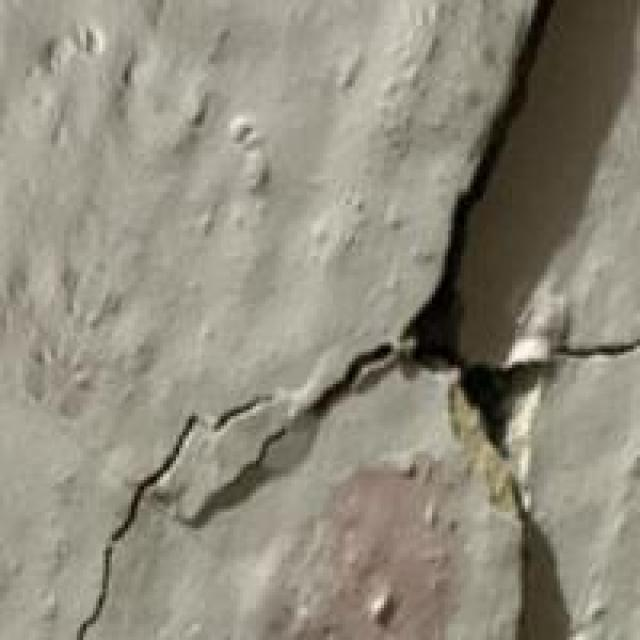Crack: (58, 3, 627, 637)
